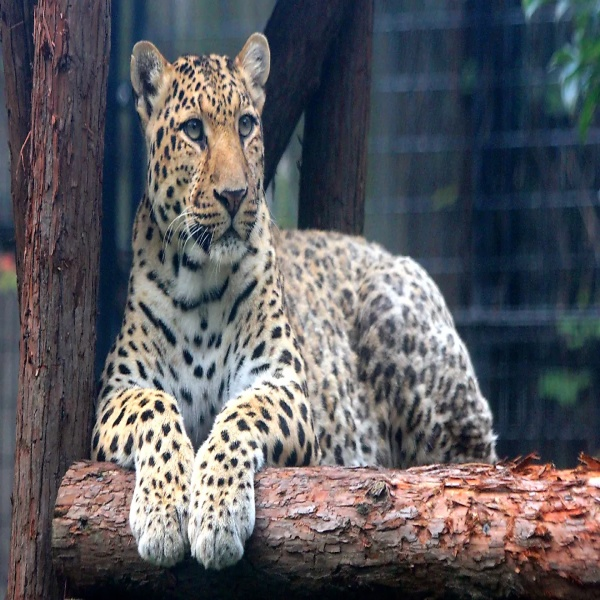Leopard: (87, 34, 504, 578)
